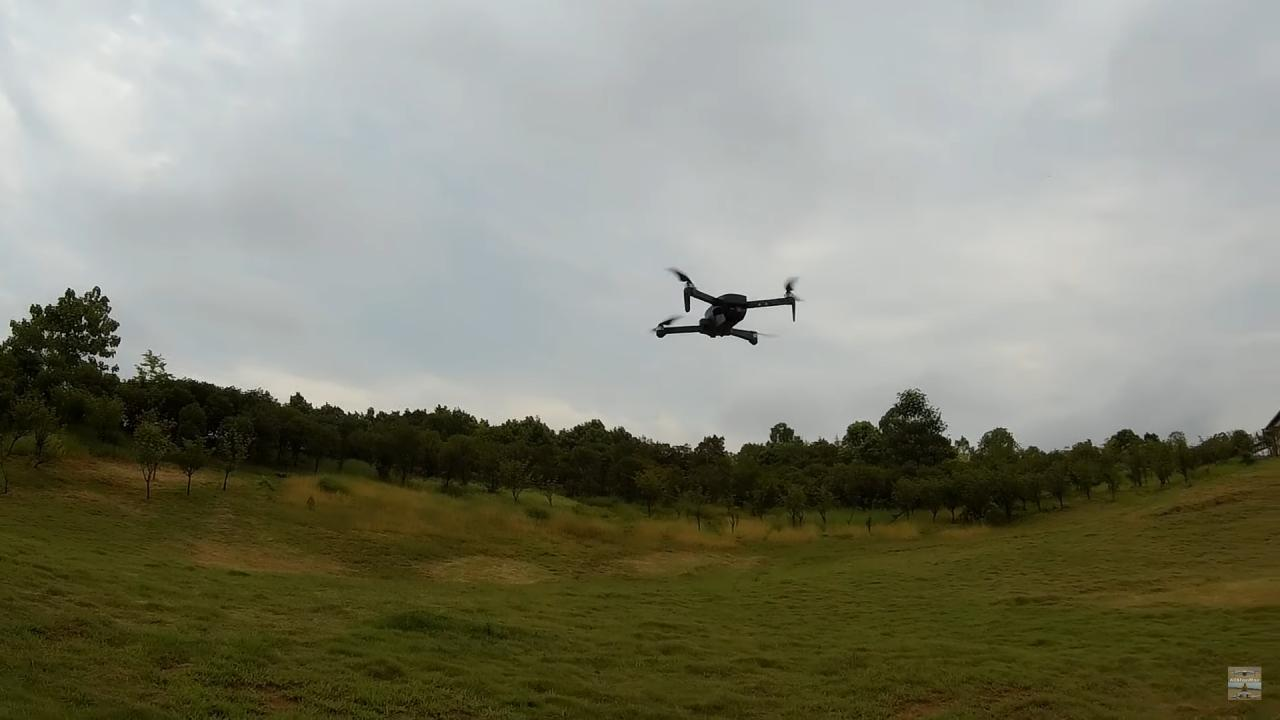Drone: (630, 254, 814, 359)
